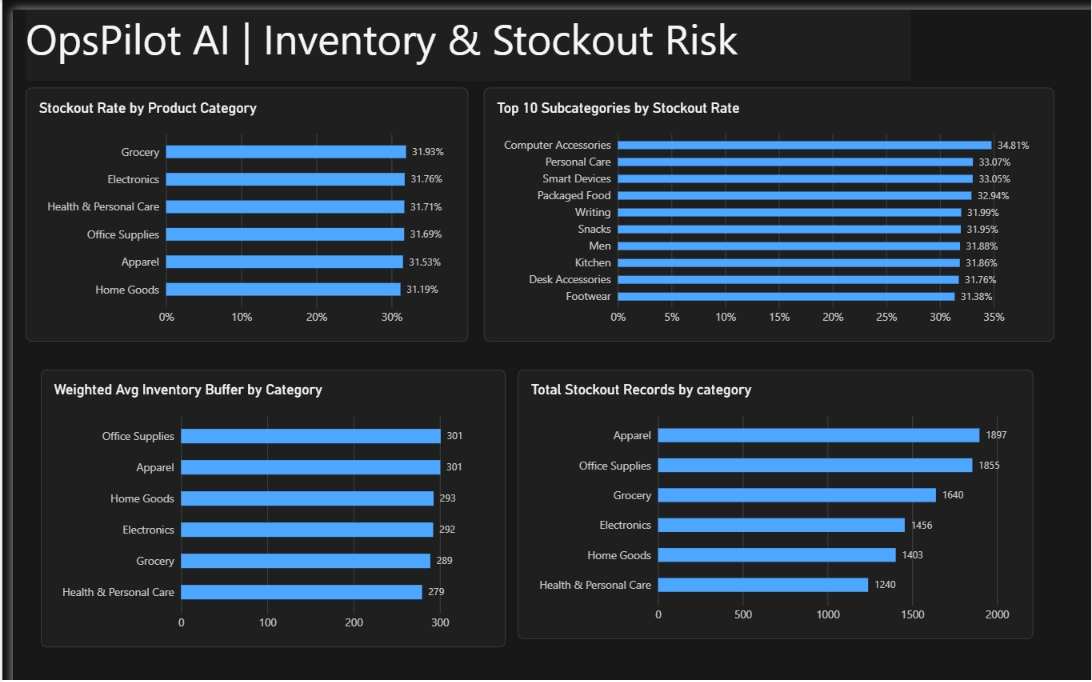

What the dashboard file says about the page in this screenshot:
{"tool":"powerbi","page":{"name":"Inventory & Stockout Risk","canvas":[1920,1080],"ordinal":1},"visuals":[{"type":"textbox","box":[16.5,0,1135.2,91.2],"z":0},{"type":"clusteredBarChart","title":"Stockout Rate by Product Category","fields":{"Category":["product_stockout_risk.category"],"Y":["ai_business_outputs.Category Stockout Rate"]},"box":[16.9,100,567.5,326],"z":1000},{"type":"clusteredBarChart","title":"Top 10 Subcategories by Stockout Rate","fields":{"Category":["product_stockout_risk.subcategory"],"Y":["product_stockout_risk.Category Stockout Rate"]},"box":[603.9,100,731.2,326],"z":2000},{"type":"clusteredBarChart","title":"Weighted Avg Inventory Buffer by Category","fields":{"Category":["product_stockout_risk.category"],"Y":["product_stockout_risk.Inventory Buffer"]},"box":[36.4,461,596.1,355.8],"z":3000},{"type":"clusteredBarChart","fields":{"Category":["product_stockout_risk.category"],"Y":["product_stockout_risk.Total Stockout Records"]},"box":[647.6,461,661,345.5],"z":4000}]}

Visuals, with their boxes on the page's 1920x1080 design canvas (x1, y1, x2, y2). These are canvas units, not pixel positions in the 1092x682 screenshot, which may show the page scaled, cropped or inside an application window:
textbox: rect(16, 0, 1152, 91)
"Stockout Rate by Product Category" clusteredBarChart: rect(17, 100, 584, 426)
"Top 10 Subcategories by Stockout Rate" clusteredBarChart: rect(604, 100, 1335, 426)
"Weighted Avg Inventory Buffer by Category" clusteredBarChart: rect(36, 461, 632, 817)
clusteredBarChart - product_stockout_risk.category x product_stockout_risk.Total Stockout Records: rect(648, 461, 1309, 806)
